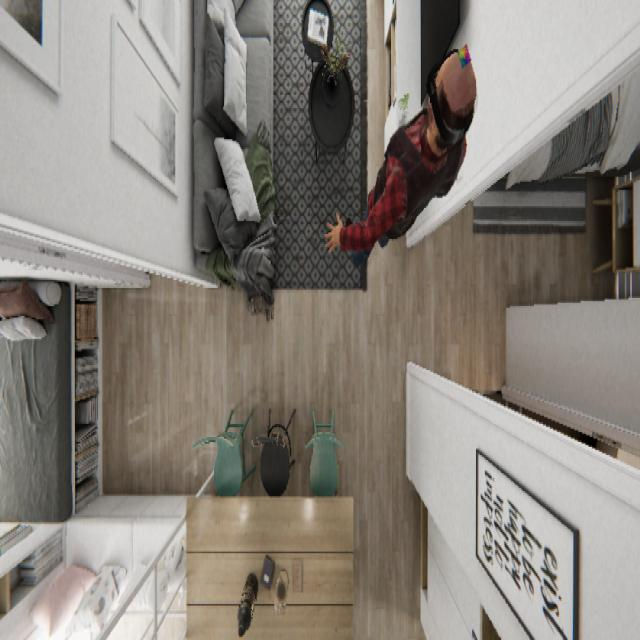Colored-Marker: (456, 41, 472, 69)
Human: (323, 41, 477, 262)
